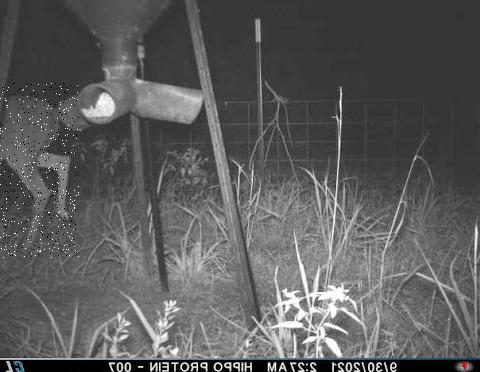Deer: (0, 83, 79, 258)
